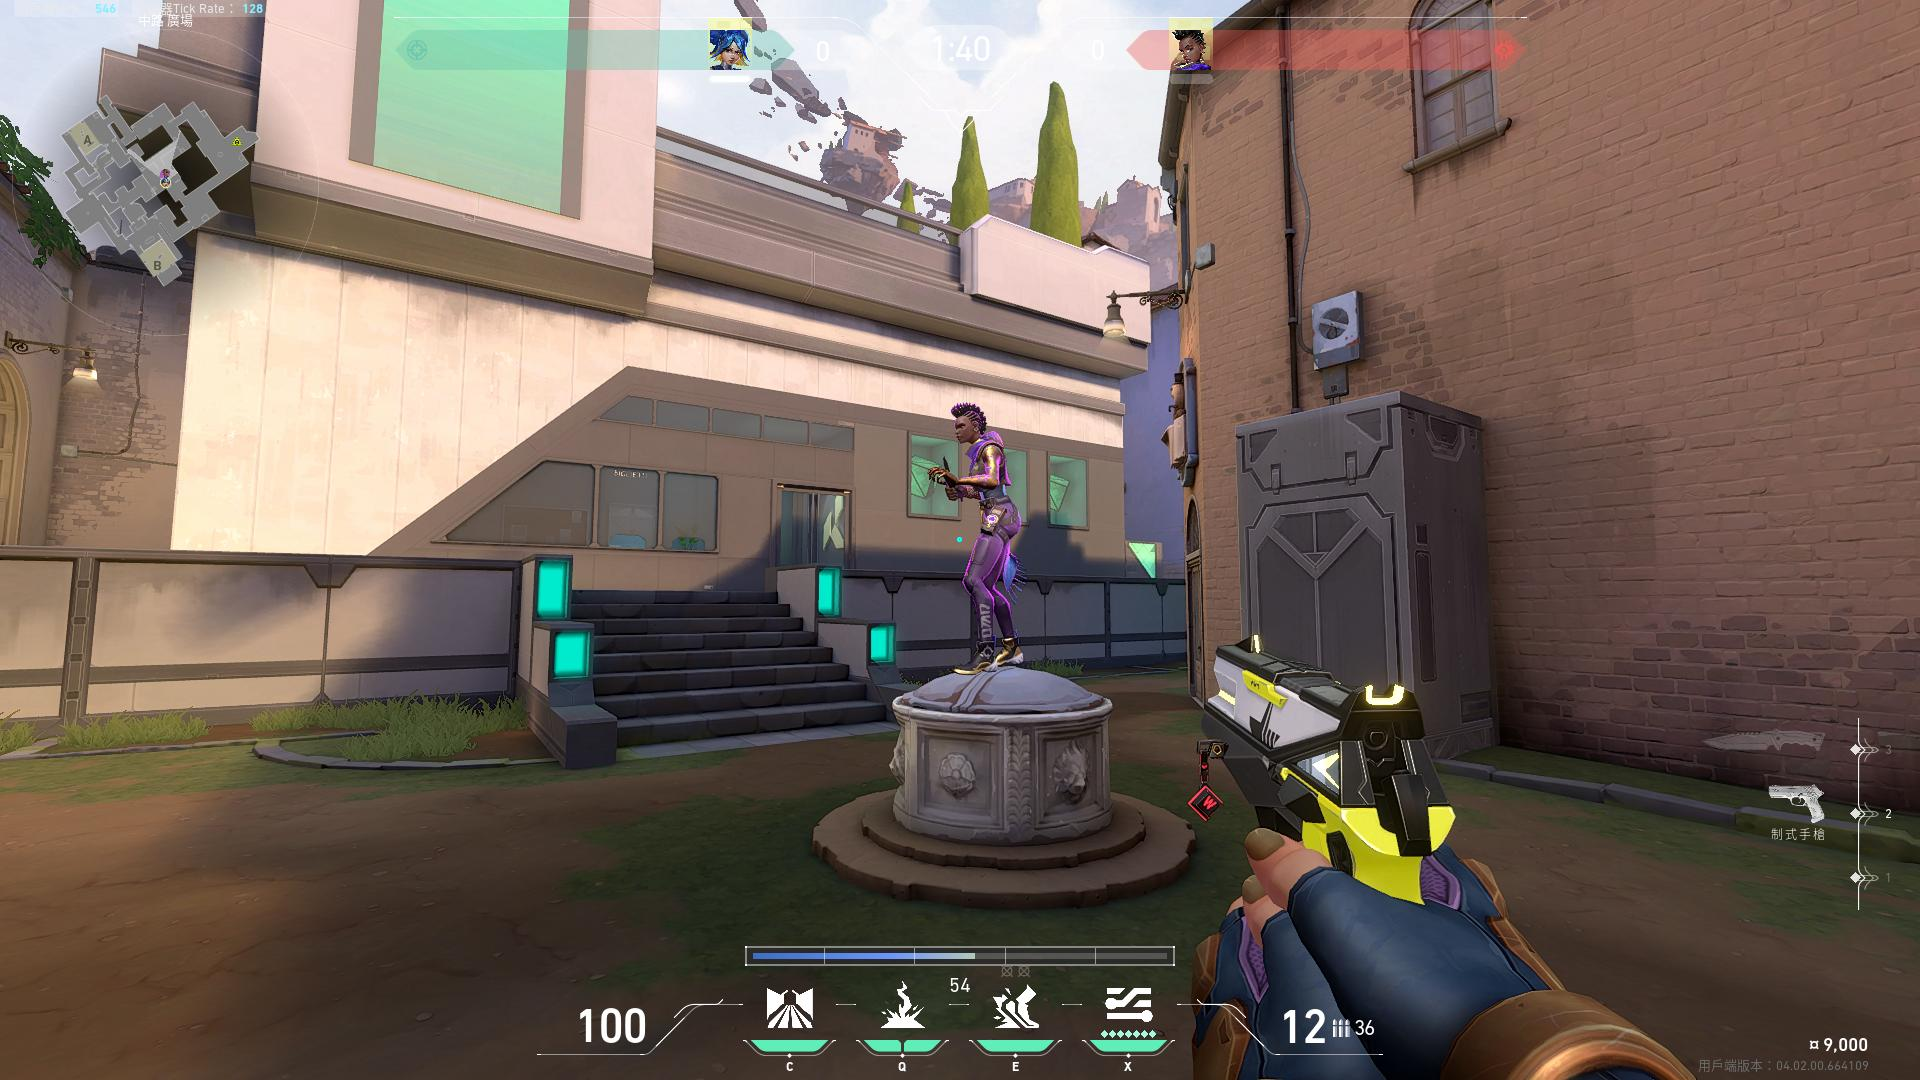enemyBody: (975, 448, 1009, 518)
enemyHead: (957, 418, 978, 438)
